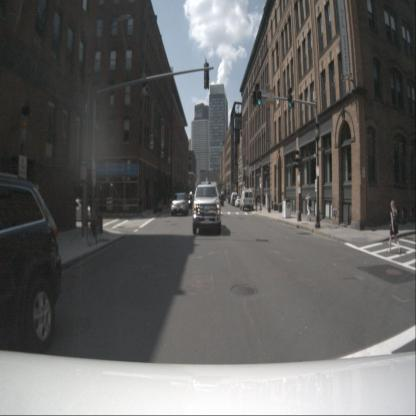human-pedestrian-adult: (387, 199, 401, 254), (305, 193, 312, 221), (254, 193, 258, 212)
vehicle-bicycle: (87, 215, 100, 246)
vehicle-car: (0, 173, 62, 353), (192, 184, 222, 234), (61, 198, 94, 222), (171, 192, 189, 216), (240, 190, 254, 211), (183, 193, 193, 209), (230, 192, 238, 205), (234, 196, 243, 207), (216, 195, 224, 206), (232, 194, 238, 206), (228, 194, 234, 204), (220, 193, 226, 201)
